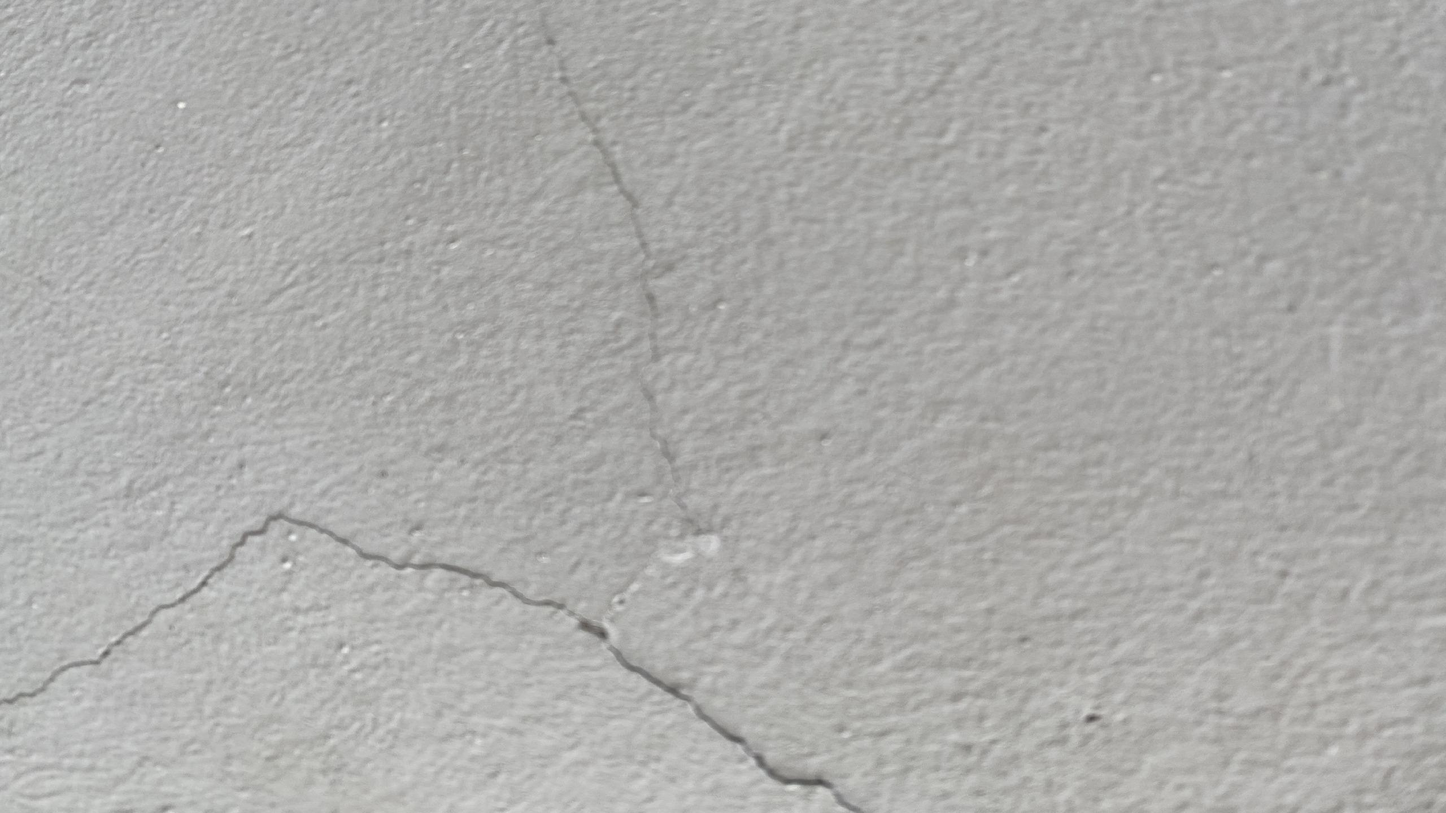crack: (2, 507, 859, 809)
